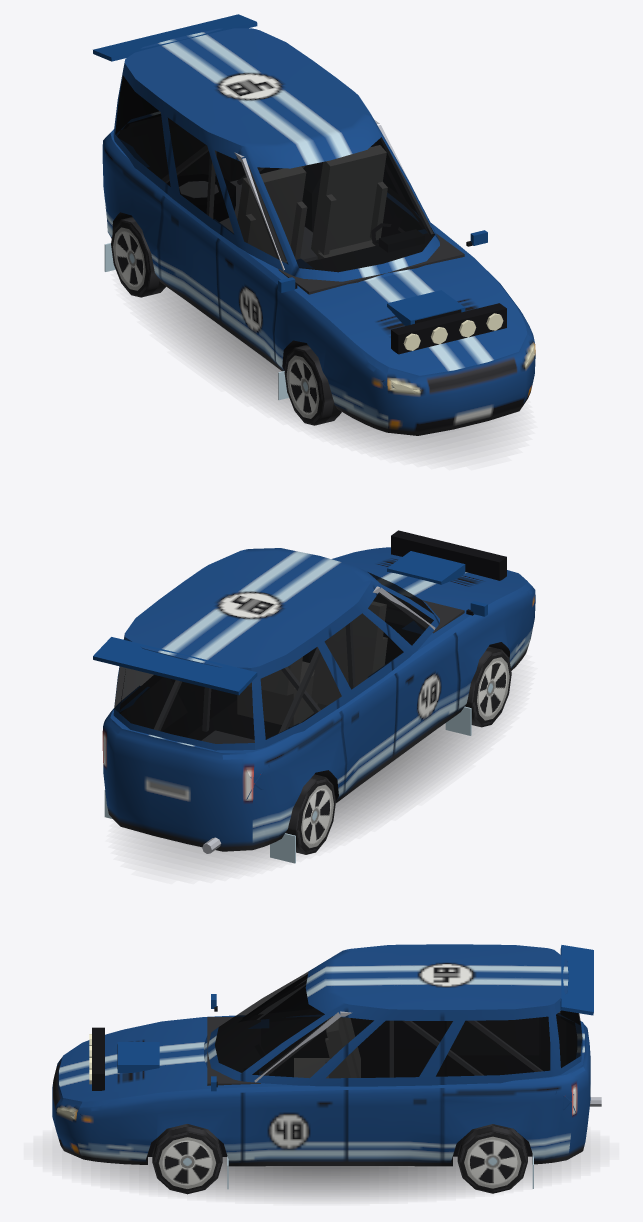
The model's file is aguaceiro.glb.
3 renders of one model, top to bottom at view 1: azimuth 30°, elevation 25°; view 2: azimuth 150°, elevation 25°; view 3: azimuth 270°, elevation 25°, orthographic. The views are drawn at different scales.
Visible parts, largest first — view 1: Carroceria, Interior, Capo_malha, Porta_TD_malha, Sombra, Porta_D_malha, Tampa_malha, Roda_DD, Roda_TD; view 2: Carroceria, Tampa_malha, Interior, Porta_TD_malha, Sombra, Capo_malha, Porta_D_malha, Roda_TD, Roda_DD; view 3: Carroceria, Interior, Porta_TE_malha, Porta_E_malha, Sombra, Capo_malha, Tampa_malha, Roda_DE, Roda_TE, Porta_D_malha.
Part boxes in pixels (<box>): Carroceria: <box>102,28,535,435</box>; Interior: <box>118,116,464,294</box>; Capo_malha: <box>316,264,531,375</box>; Porta_TD_malha: <box>158,110,242,317</box>; Sombra: <box>143,287,509,454</box>; Porta_D_malha: <box>216,146,295,362</box>; Tampa_malha: <box>93,14,257,135</box>; Roda_DD: <box>284,344,341,425</box>; Roda_TD: <box>111,217,166,297</box>; Carroceria: <box>102,548,535,863</box>; Tampa_malha: <box>93,637,257,833</box>; Interior: <box>120,586,464,743</box>; Porta_TD_malha: <box>329,581,397,793</box>; Sombra: <box>133,683,511,868</box>; Capo_malha: <box>335,530,531,607</box>; Porta_D_malha: <box>371,581,459,752</box>; Roda_TD: <box>285,774,335,854</box>; Roda_DD: <box>465,646,511,727</box>; Carroceria: <box>52,944,601,1189</box>; Interior: <box>159,979,576,1135</box>; Porta_TE_malha: <box>346,1004,442,1161</box>; Porta_E_malha: <box>242,1003,346,1160</box>; Sombra: <box>62,1149,580,1198</box>; Capo_malha: <box>63,1020,191,1107</box>; Tampa_malha: <box>554,945,593,1140</box>; Roda_DE: <box>152,1124,222,1194</box>; Roda_TE: <box>457,1124,527,1193</box>; Porta_D_malha: <box>244,975,313,1017</box>.
Size of the model in its own units: 2.42 by 1.8 by 5.6.
Materials: 14 (5 with a texture image).
